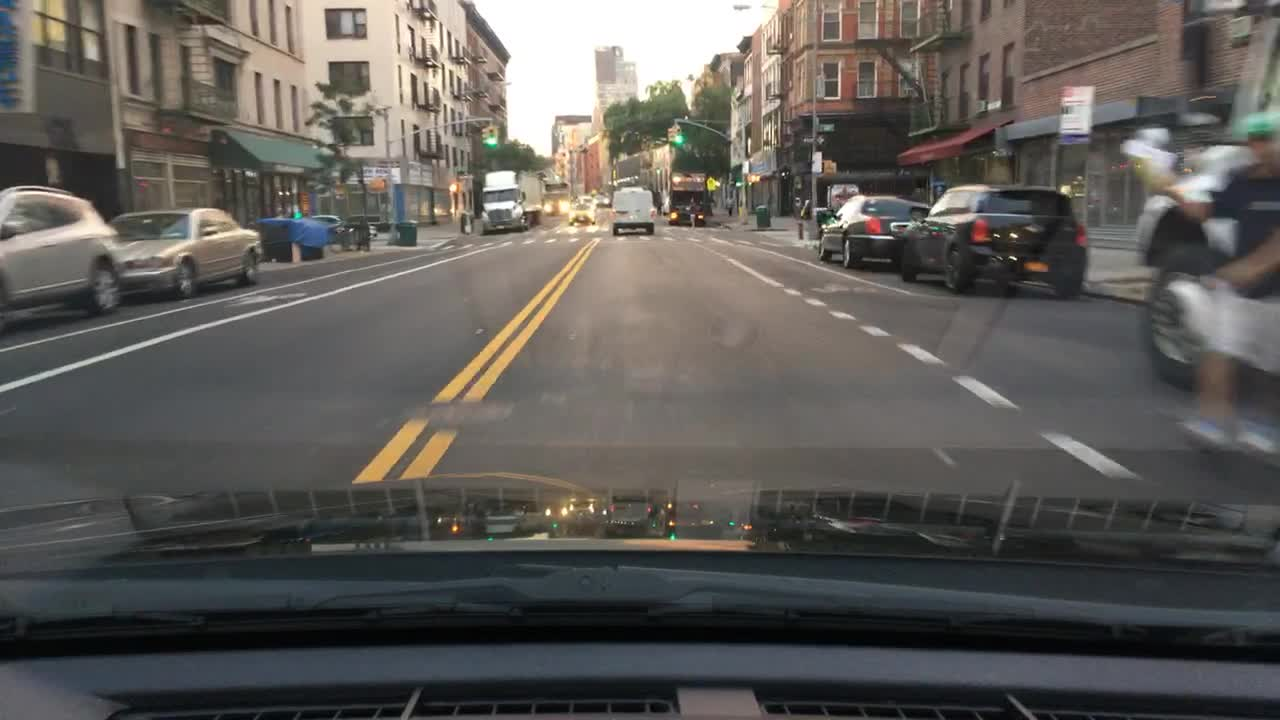bike: (345, 221, 367, 249)
car: (896, 179, 1086, 303), (0, 177, 121, 314), (106, 203, 266, 300), (813, 190, 931, 267), (609, 183, 658, 237), (307, 212, 345, 243), (566, 195, 595, 226), (367, 221, 379, 240)
person: (1174, 111, 1279, 454), (721, 183, 733, 218), (688, 194, 698, 228)
traffic light: (823, 158, 837, 174), (370, 179, 386, 191), (447, 179, 458, 194), (487, 126, 495, 145), (675, 124, 682, 144), (668, 127, 675, 142), (480, 126, 486, 143)
traffic sign: (1058, 84, 1093, 143), (819, 123, 834, 129)
truck: (1115, 12, 1277, 383), (478, 169, 545, 232), (673, 167, 708, 228), (544, 180, 568, 214)
